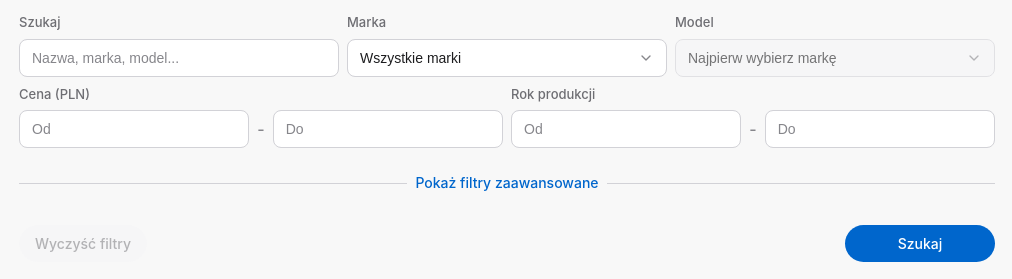
Test: AdvancedFilter › enables reset button when filters are active
This screenshot has width=1012, height=279.
Type "test" into the field labelled "Szukaj".
click(179, 58); type("test")  # box [19,38,339,76]
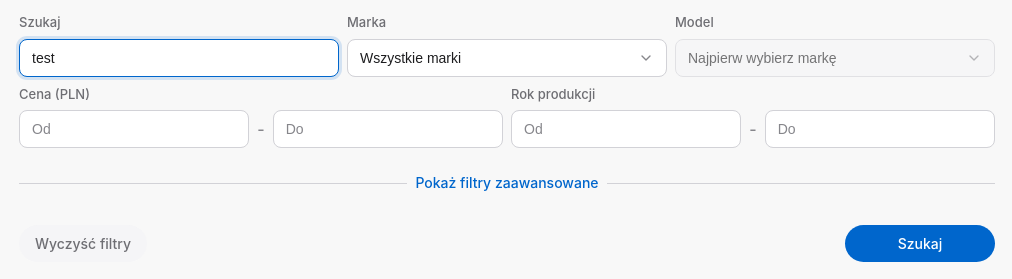
Now the button "Wyczyść filtry" is enabled, box [19,225,147,262]
